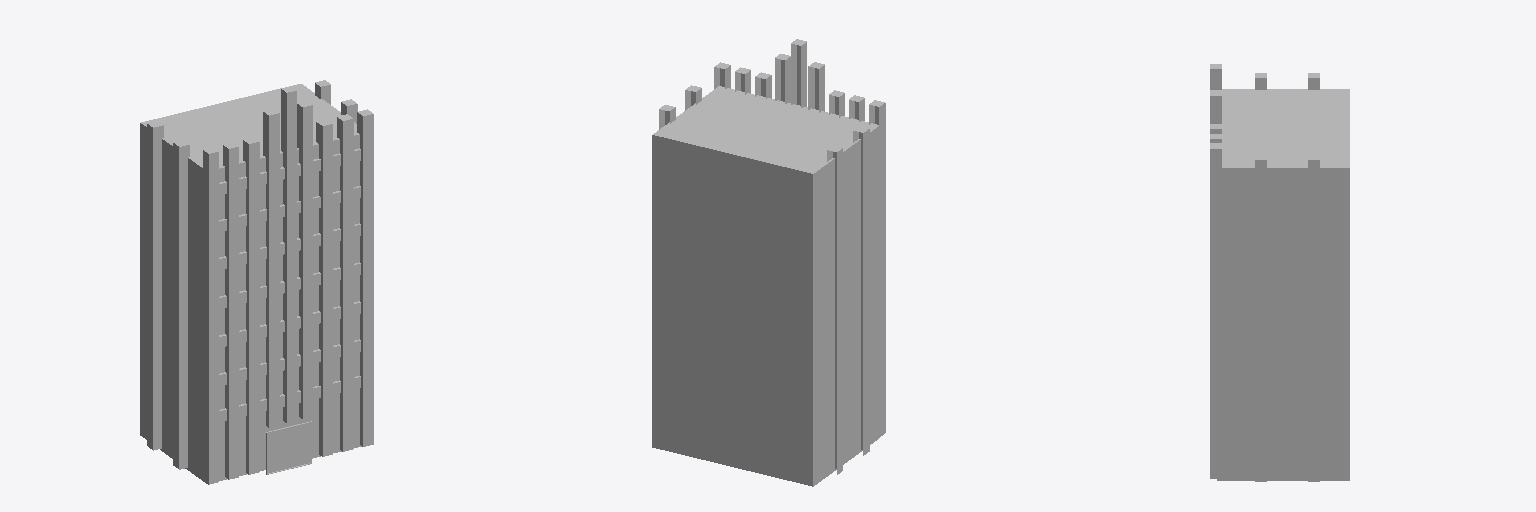
Rendered from building5.obj.
The picture shows the model from 3 angles: view 1: azimuth 30°, elevation 25°; view 2: azimuth 150°, elevation 25°; view 3: azimuth 270°, elevation 25°; orthographic projection.
Visible parts, largest first — view 1: polySurface744 city; view 2: polySurface744 city; view 3: polySurface744 city.
Part boxes in pixels (x1,y1,x2,y2): polySurface744 city: (140,80,373,484); polySurface744 city: (652,39,885,486); polySurface744 city: (1210,64,1349,481).
Size of the model in its own units: 5.69 by 11.6 by 3.89.